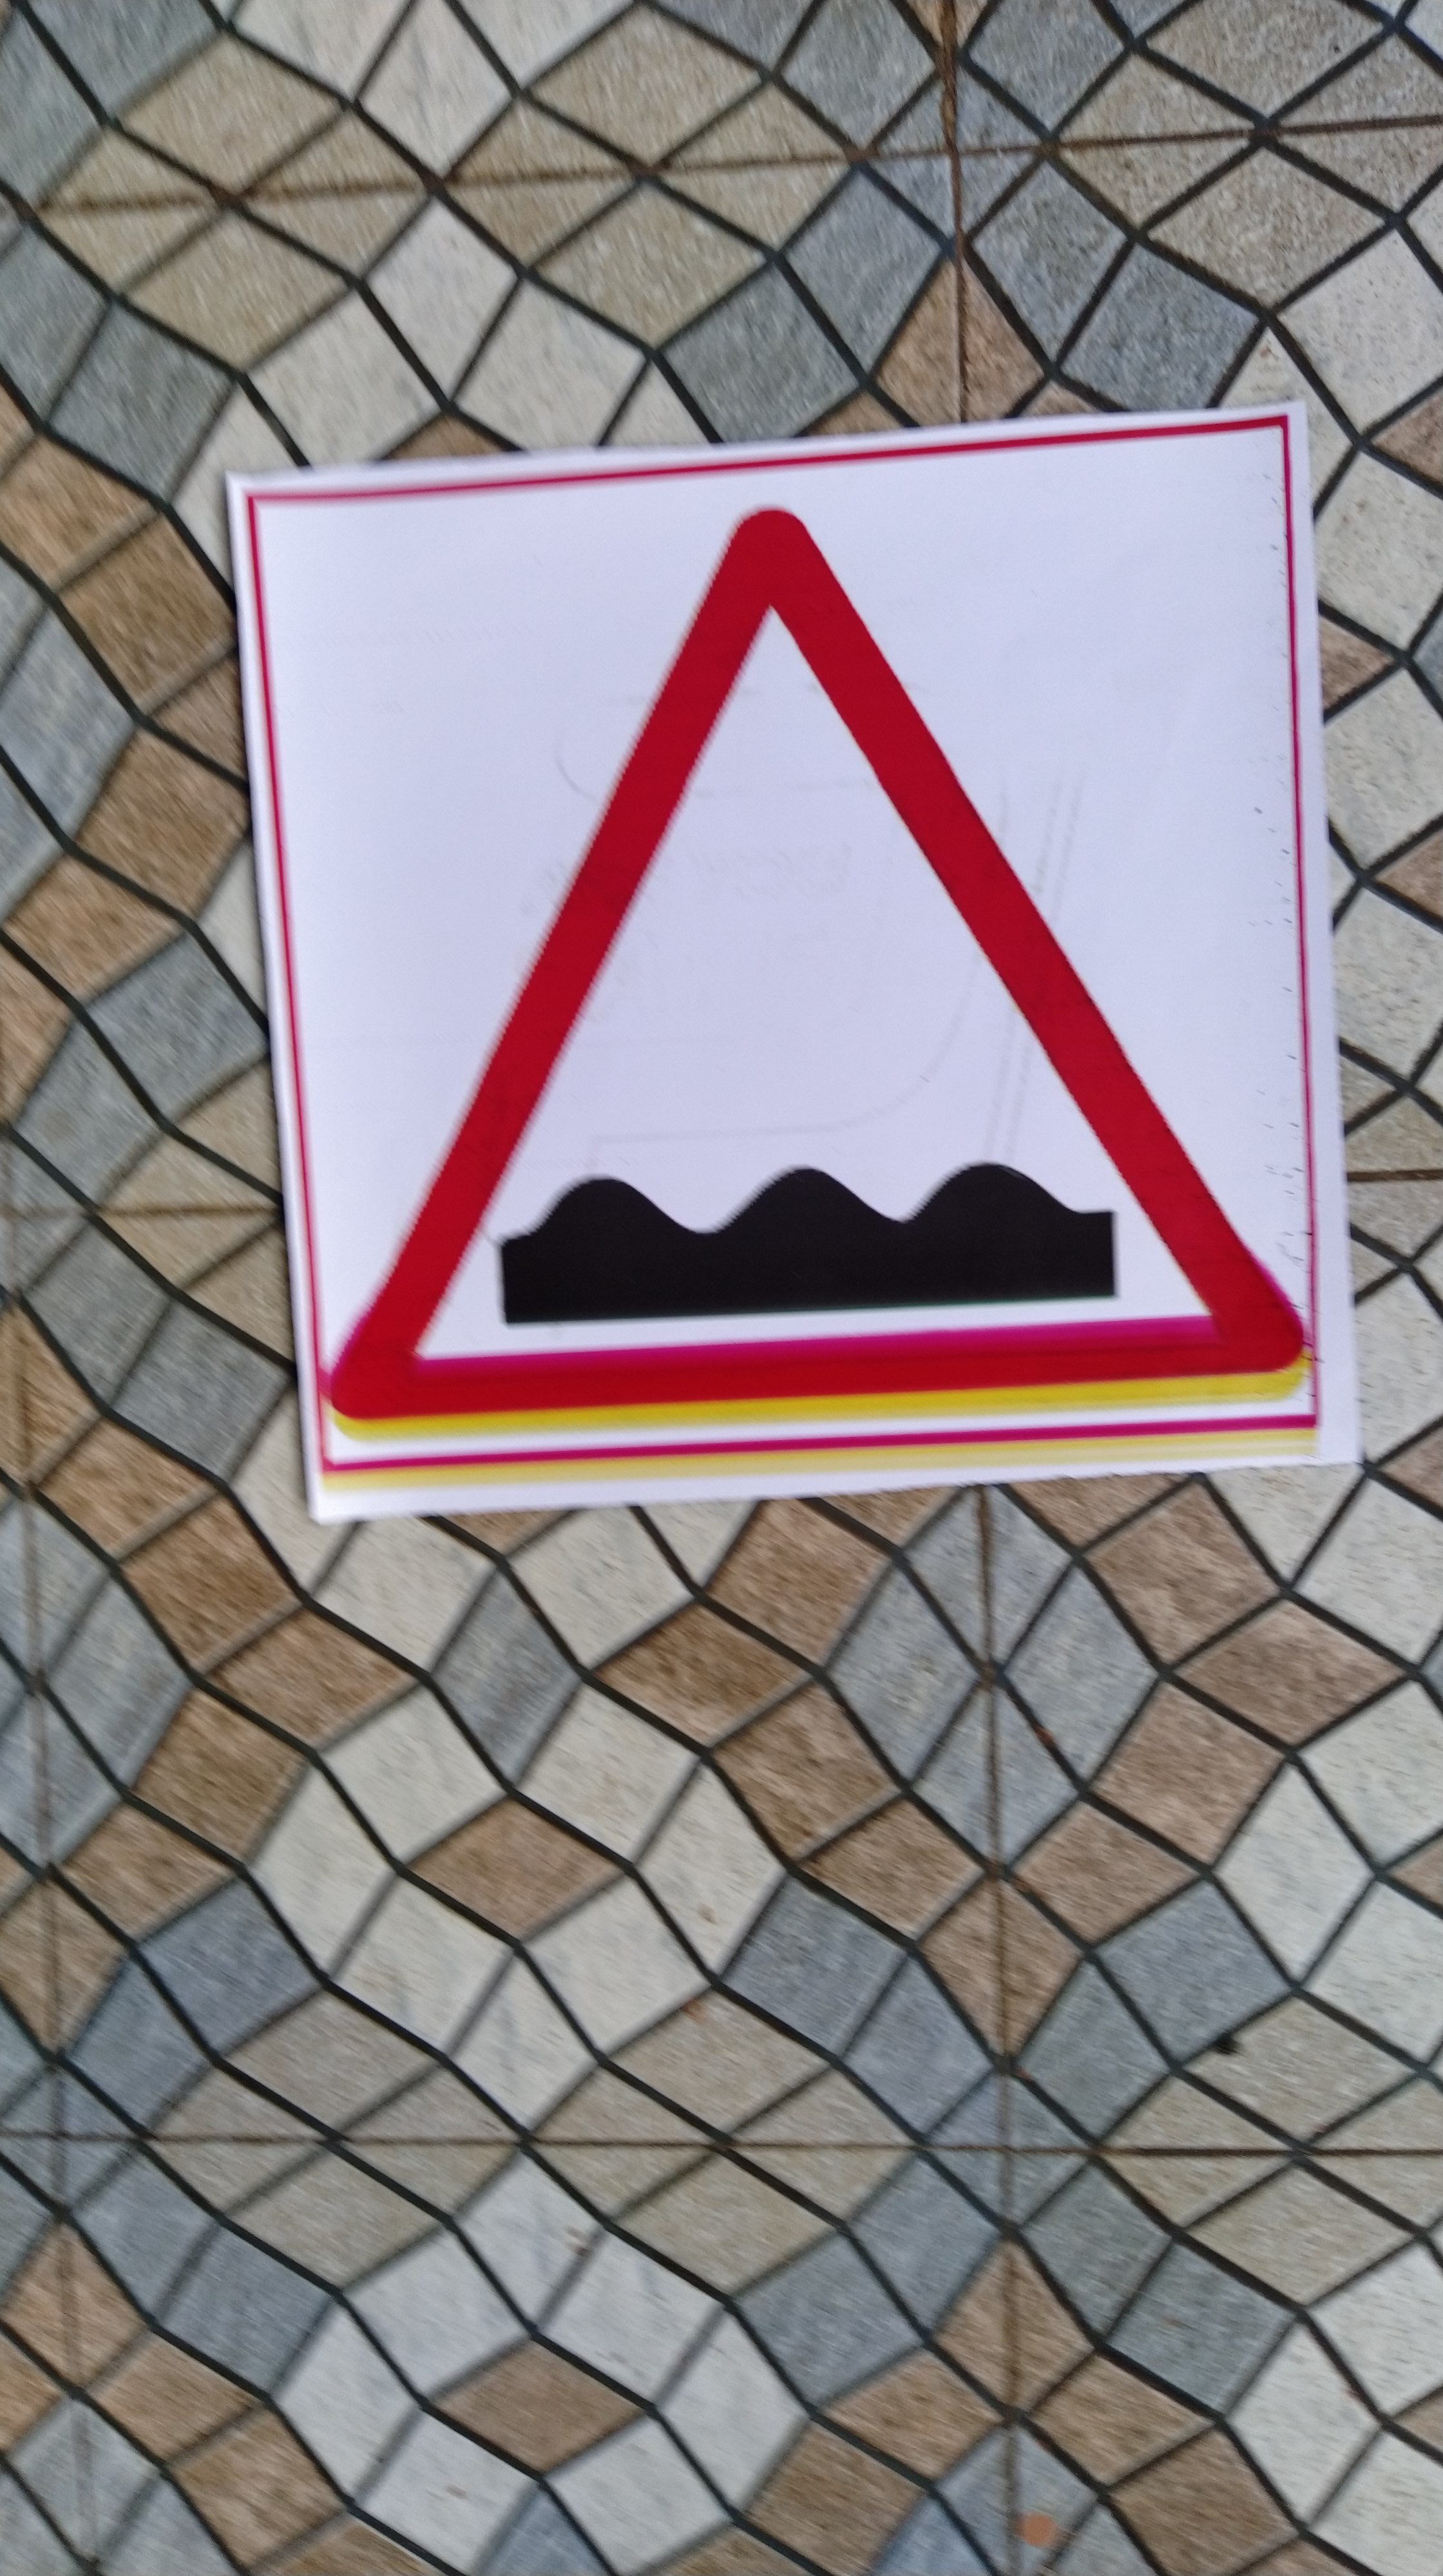speed breaker: (260, 478, 1339, 1467)
